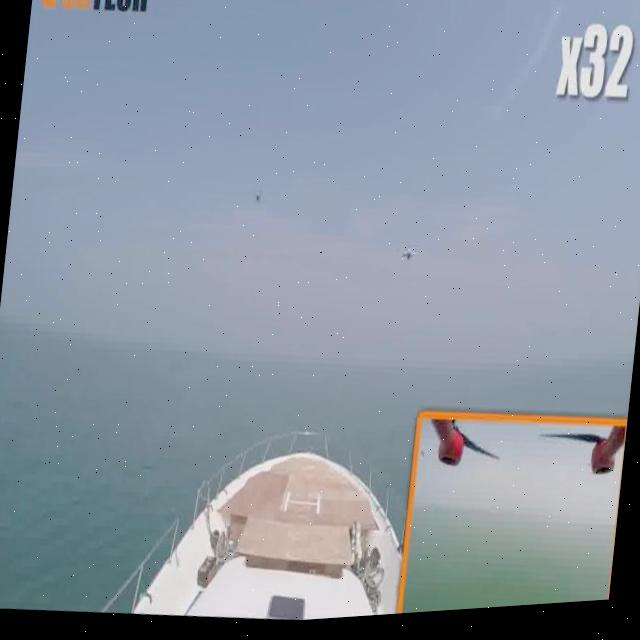drone: (394, 234, 421, 276), (248, 185, 268, 218)
